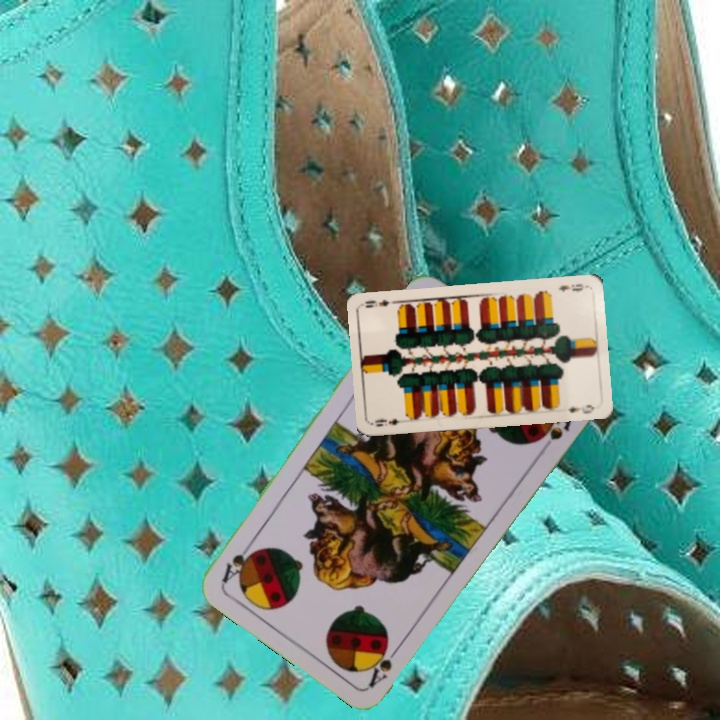E9: (371, 414, 410, 429), (554, 280, 588, 294)
SA: (365, 638, 406, 690)
